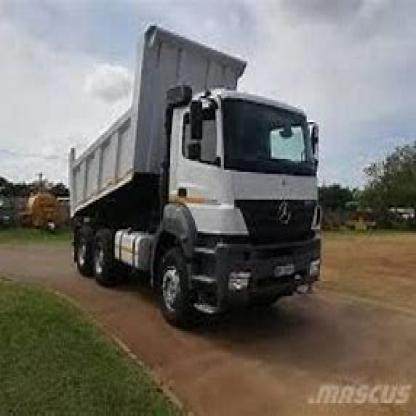dump_truck: (51, 21, 334, 338)
